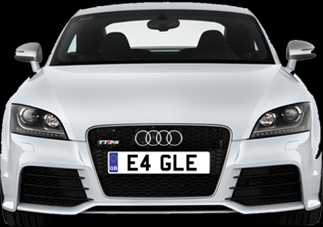Plate: (106, 148, 213, 177)
